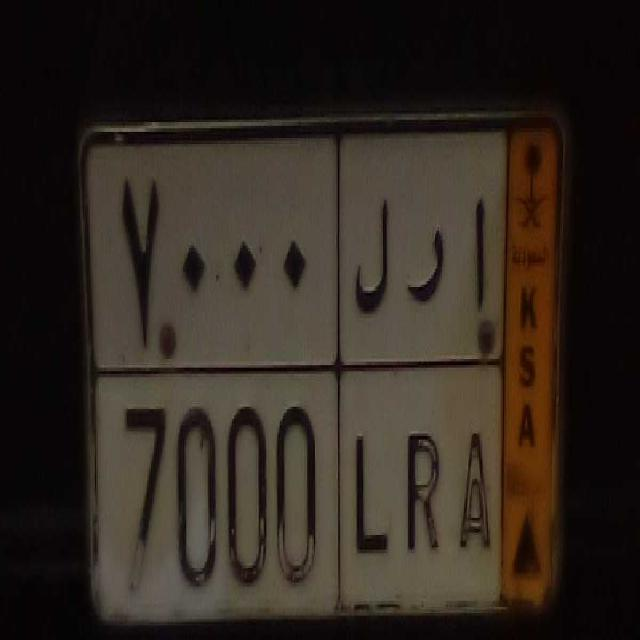license_plate: (93, 358, 505, 625)
